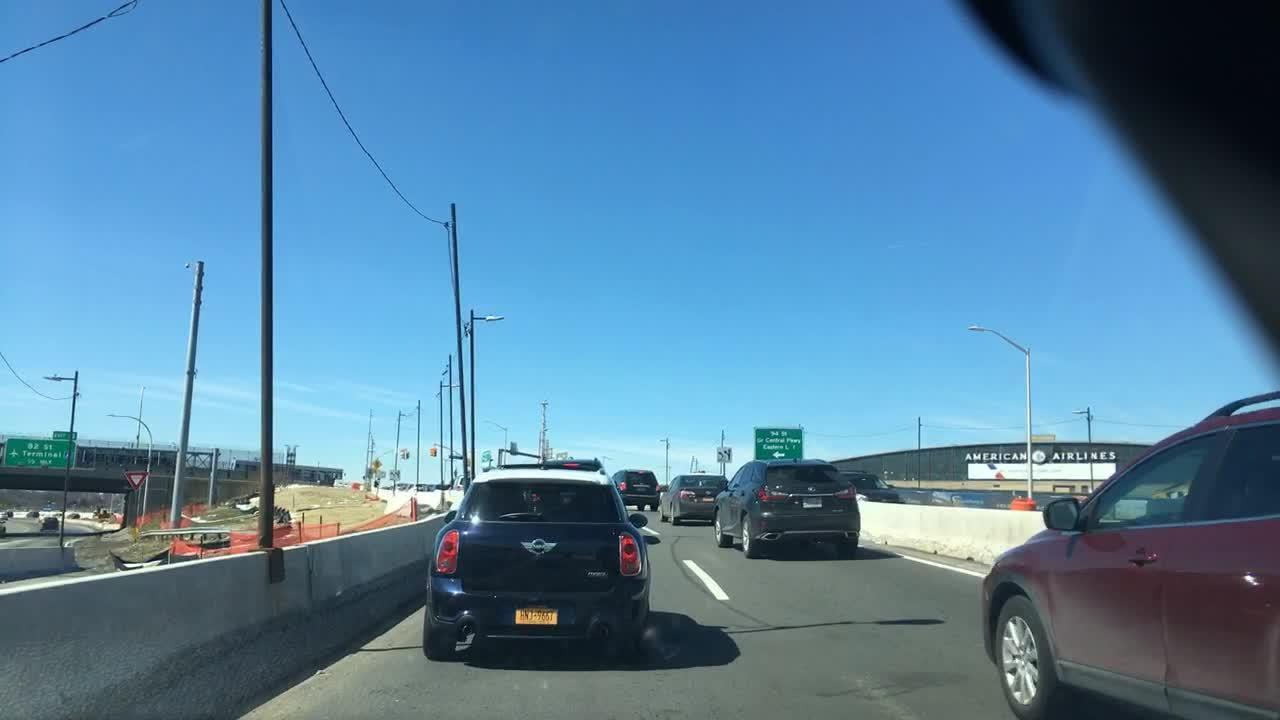mini: (514, 531, 566, 560)
